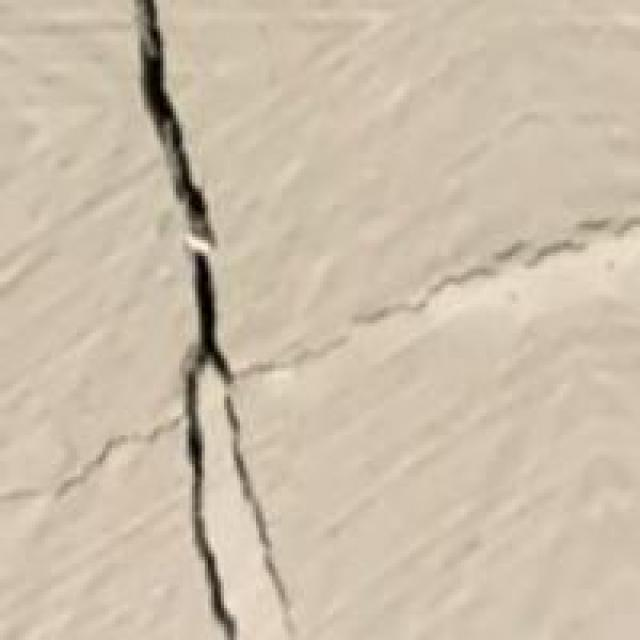crack: (61, 0, 320, 637)
